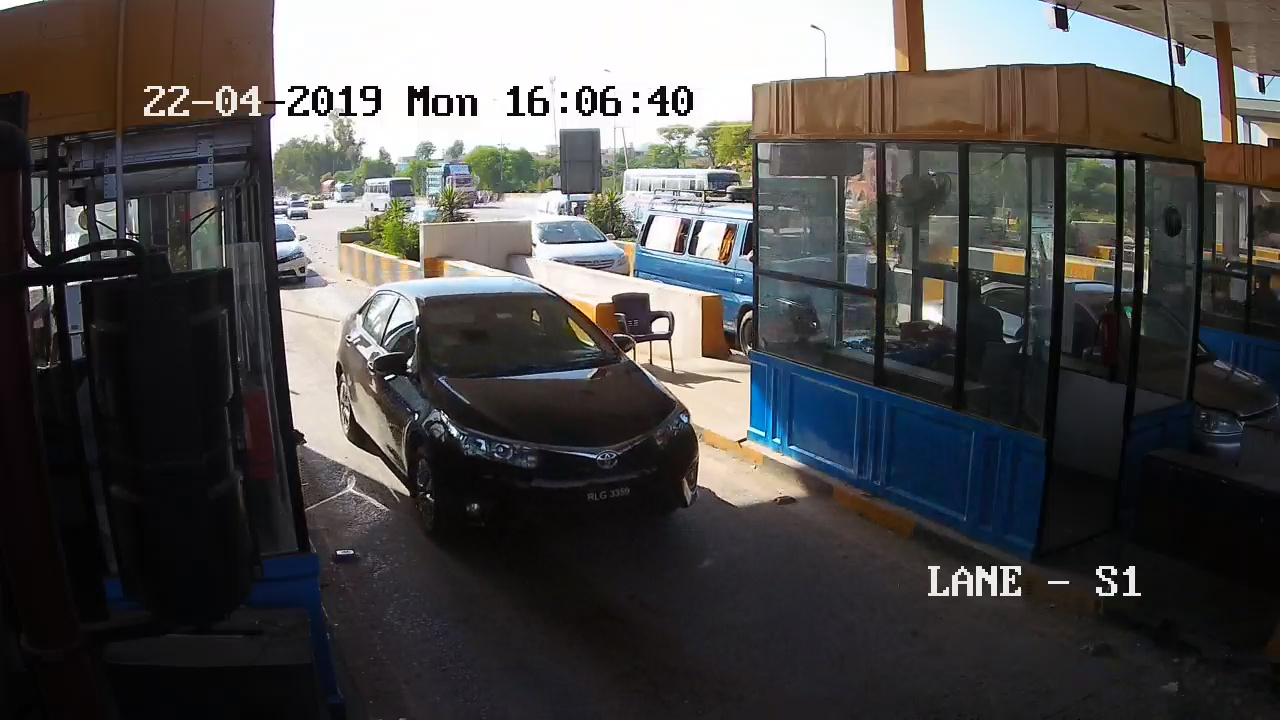Number Plate (Car): (580, 486, 637, 504)
